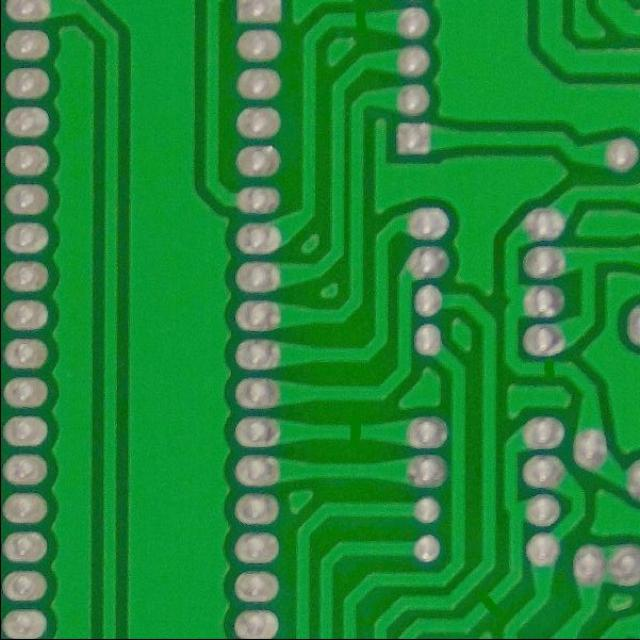Open_Circuit: (339, 0, 383, 42), (332, 412, 378, 451), (471, 584, 507, 618), (532, 352, 566, 386)
